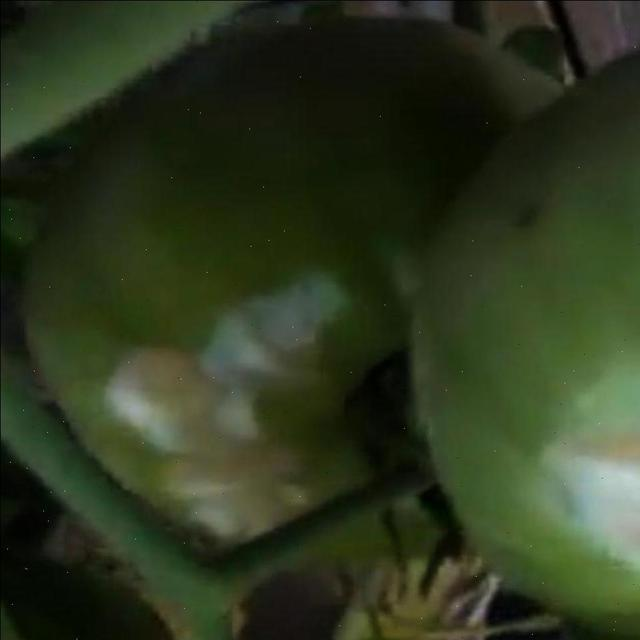Sunscald Fruit: (70, 173, 392, 309)
